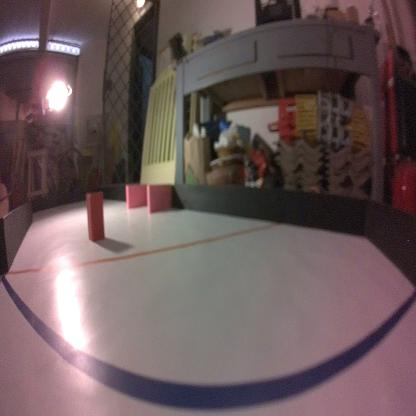magenta: (145, 183, 172, 213), (124, 180, 150, 206)
red: (85, 187, 106, 241)
